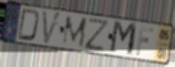D: (16, 7, 42, 44)
F: (135, 25, 156, 57)
M: (108, 19, 139, 58), (61, 15, 88, 49)
V: (41, 9, 62, 47)
Z: (84, 17, 111, 53)
